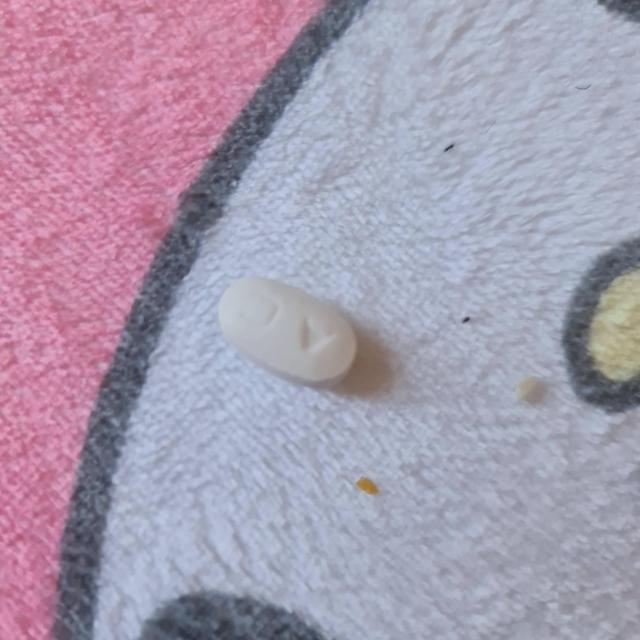pill: (220, 278, 358, 384)
